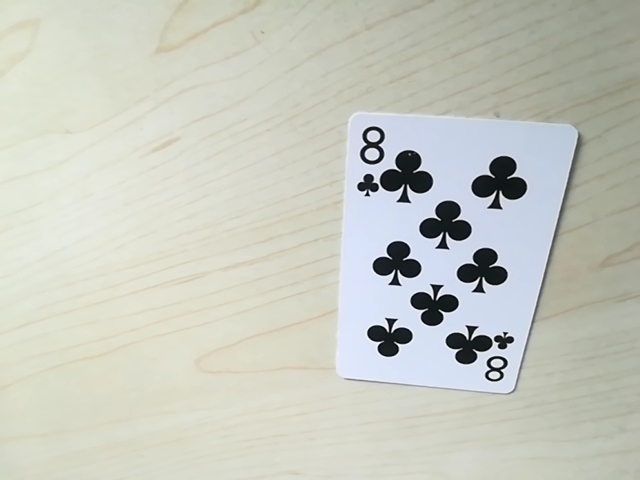mh 8: (344, 123, 388, 186), (468, 340, 519, 388)
